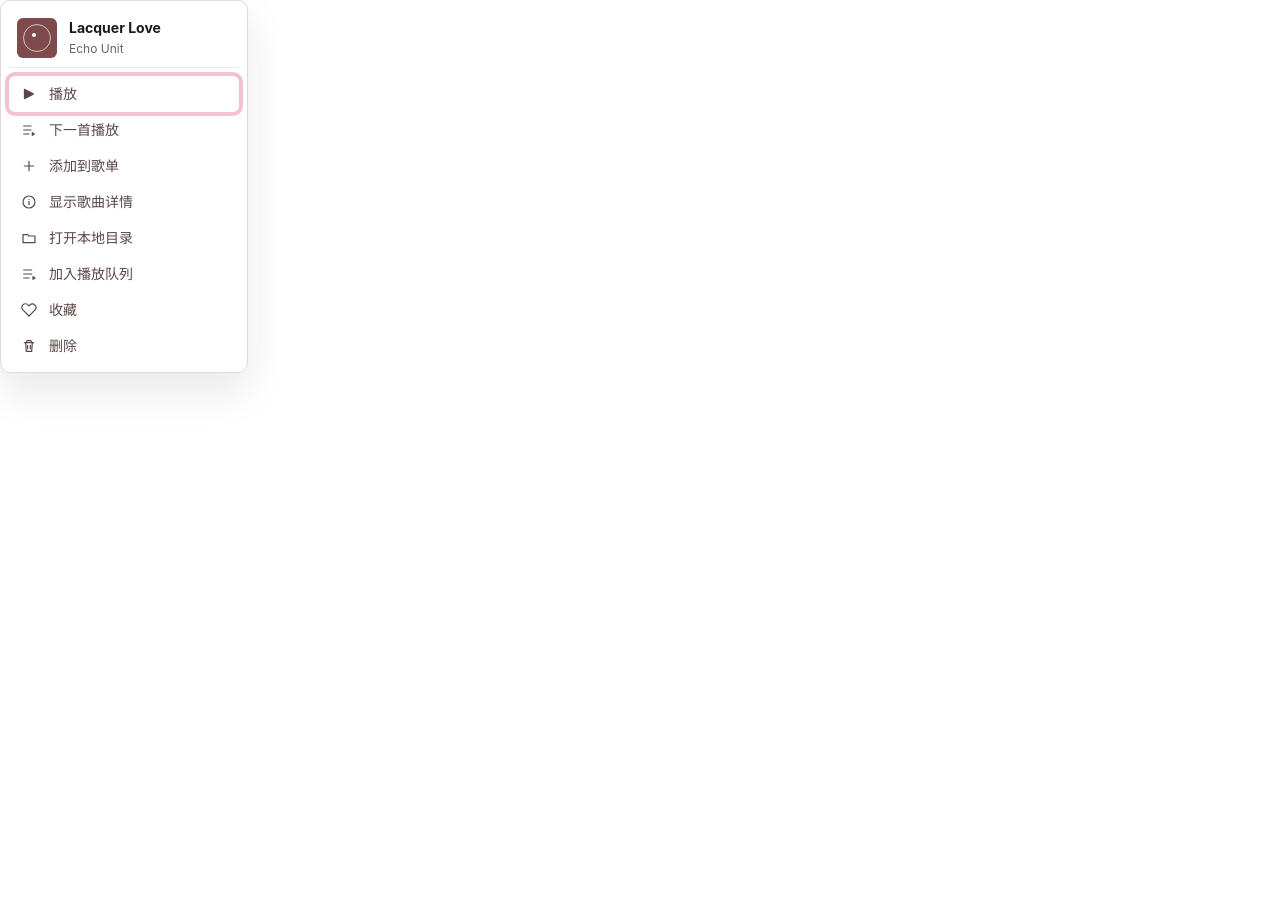
SongMenu task 10.8 › opens a real delete confirmation and never marks deleted before a confirm is chosen
This screenshot has width=1280, height=900.
Click the menu item "删除": (124, 346) [9,328,239,364]
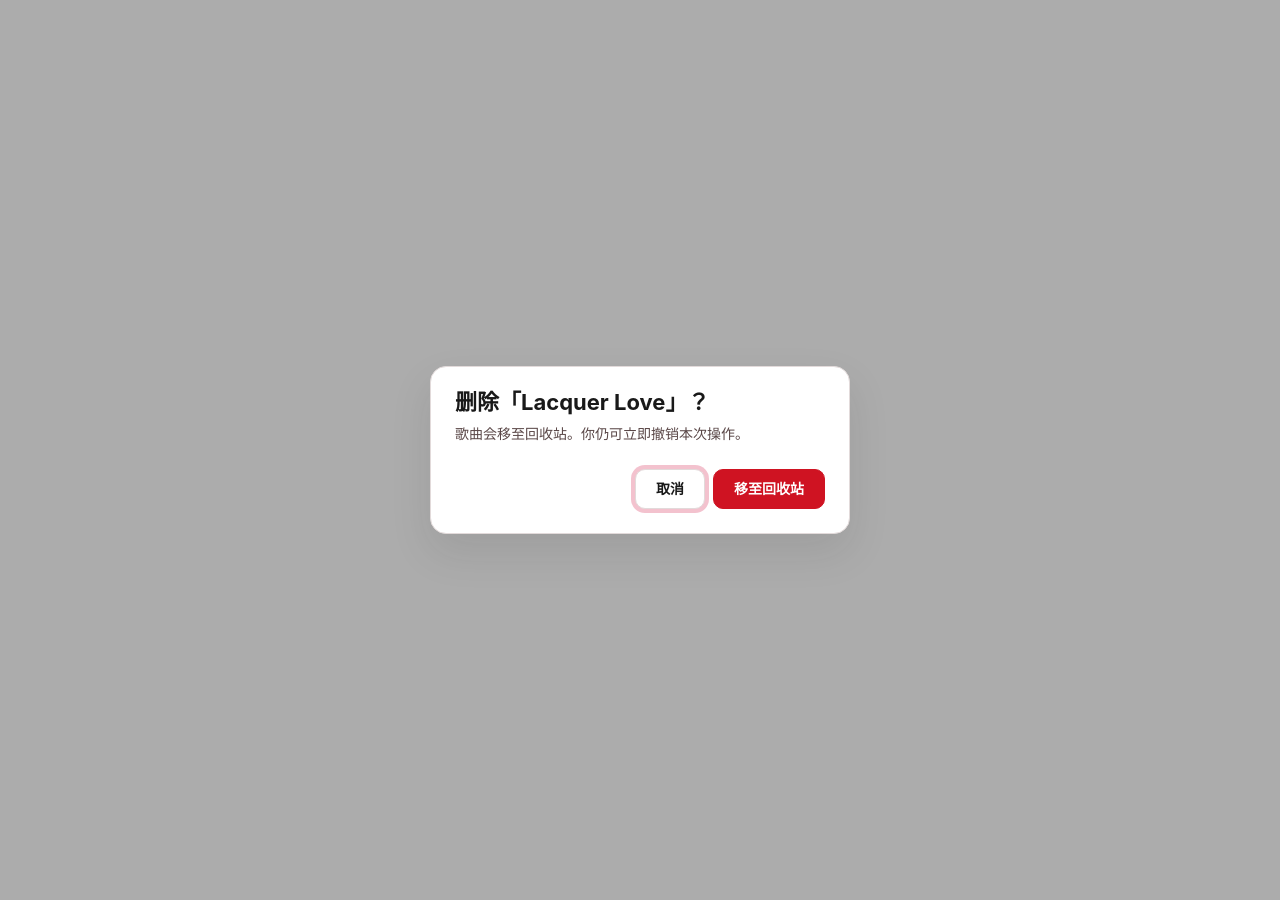
Expected: the heading "删除「Lacquer Love」？" is shown, [455,390,709,416]
Expected: the text "歌曲会移至回收站。你仍可立即撤销本次操作。" is shown, [455,425,749,442]
Expected: the menu "歌曲操作菜单" is gone
